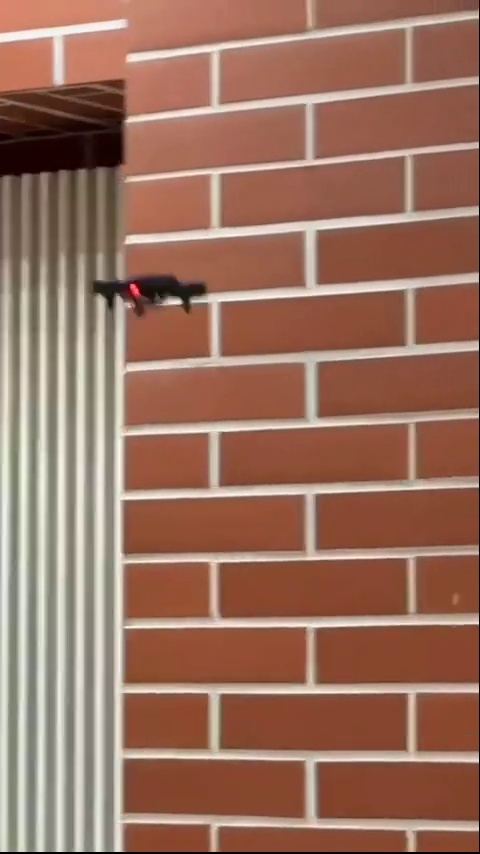drone: (83, 265, 211, 320)
